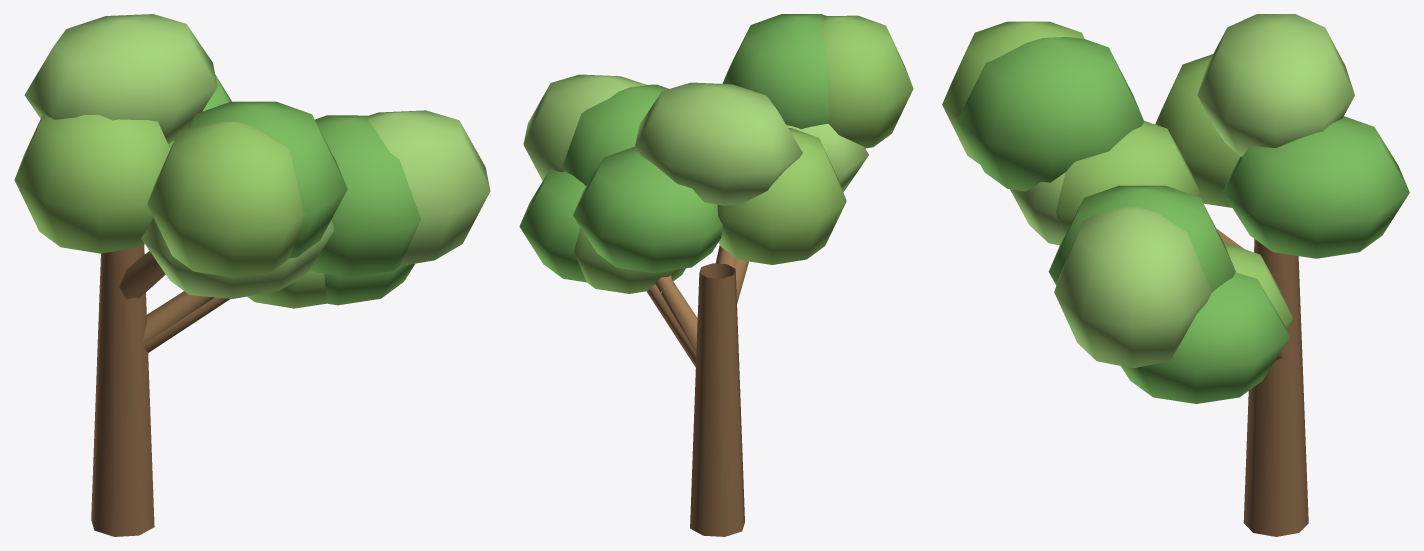
Rendered from tree_deciduous_02.glb.
The picture shows the model from 3 angles, left to right: view 1: azimuth 30°, elevation 25°; view 2: azimuth 150°, elevation 25°; view 3: azimuth 270°, elevation 25°; orthographic projection. The views are drawn at different scales.
Size of the model in its own units: 0.9248 by 1.1 by 0.9348.
